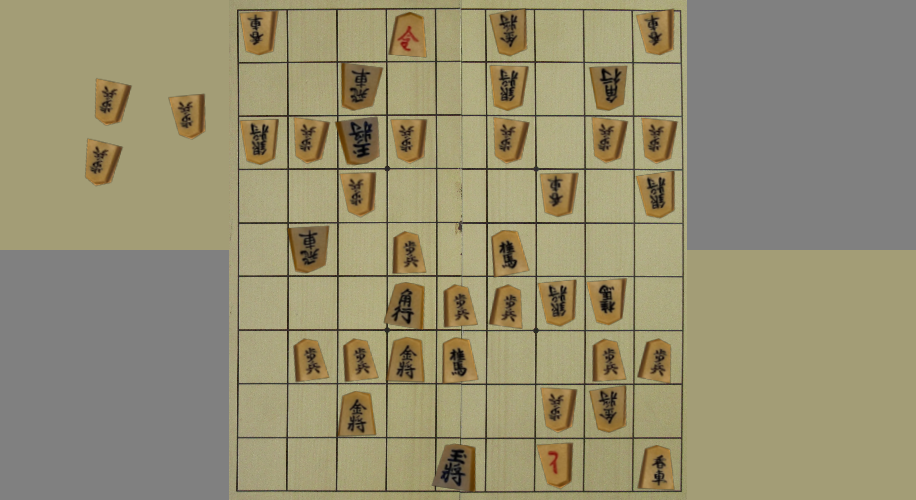A: (433, 445, 475, 491), (385, 283, 424, 329), (338, 391, 376, 435), (493, 231, 528, 276), (388, 338, 423, 382), (638, 446, 673, 489), (391, 13, 425, 57), (444, 339, 477, 383), (490, 285, 522, 328), (295, 340, 328, 381), (444, 285, 477, 326), (345, 340, 377, 381), (639, 340, 670, 382), (394, 232, 425, 273), (594, 340, 625, 381)
B: (338, 118, 378, 164), (343, 65, 381, 110), (290, 227, 328, 272), (588, 280, 625, 324), (637, 172, 673, 217), (241, 121, 278, 164), (541, 173, 577, 216), (491, 11, 526, 55), (591, 66, 626, 110), (637, 11, 672, 54), (540, 281, 574, 325), (591, 387, 625, 431), (241, 12, 276, 54), (295, 119, 329, 162), (538, 444, 572, 487), (495, 118, 528, 162), (492, 67, 526, 109), (542, 389, 576, 431), (342, 173, 375, 215), (393, 120, 425, 162), (594, 119, 626, 161), (644, 119, 675, 162)
D: (86, 140, 121, 185), (169, 94, 204, 138), (96, 79, 130, 124)
